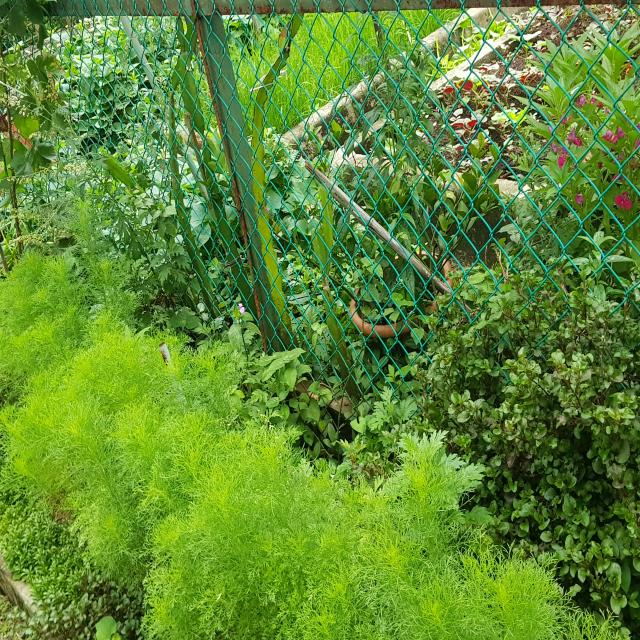Dill: (108, 436, 445, 640), (5, 343, 150, 640)
